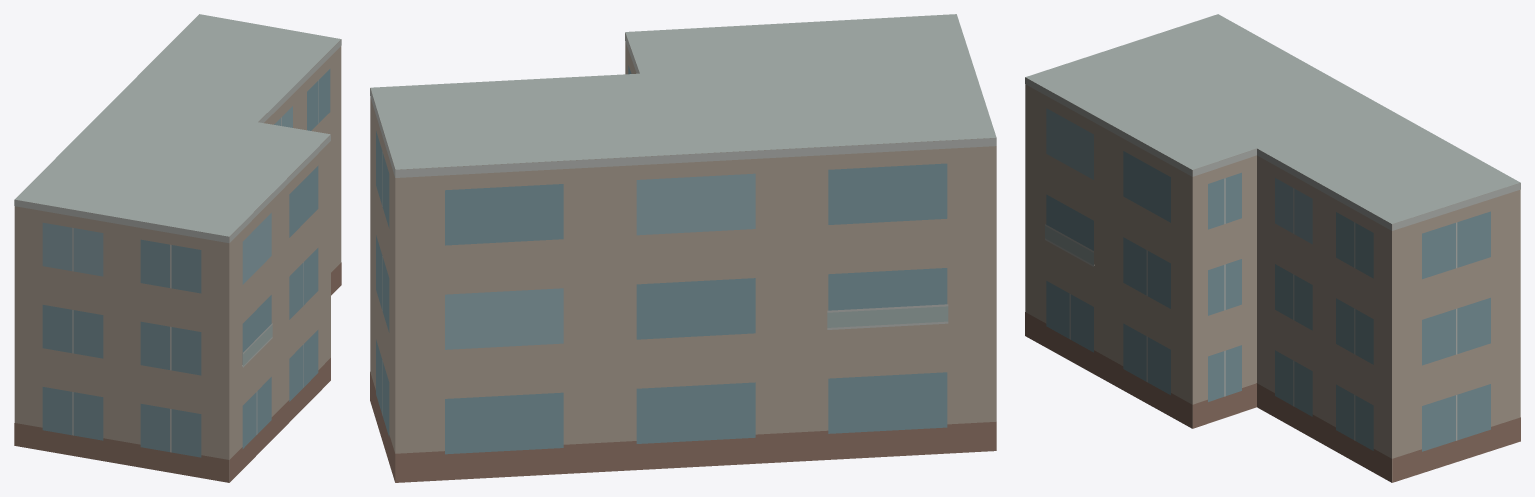
The model's file is survey-upis-32982540.glb.
3 renders of one model, left to right at view 1: azimuth 30°, elevation 25°; view 2: azimuth 150°, elevation 25°; view 3: azimuth 270°, elevation 25°, orthographic. The views are drawn at different scales.
Visible parts, largest first — view 1: survey-upis-32982540.tmp; view 2: survey-upis-32982540.tmp; view 3: survey-upis-32982540.tmp.
Part boxes in pixels (x1,y1,x2,y2): survey-upis-32982540.tmp: (14, 14, 341, 482); survey-upis-32982540.tmp: (370, 14, 996, 482); survey-upis-32982540.tmp: (1025, 14, 1520, 482).
Size of the model in its own units: 15.94 by 9.15 by 15.89.
